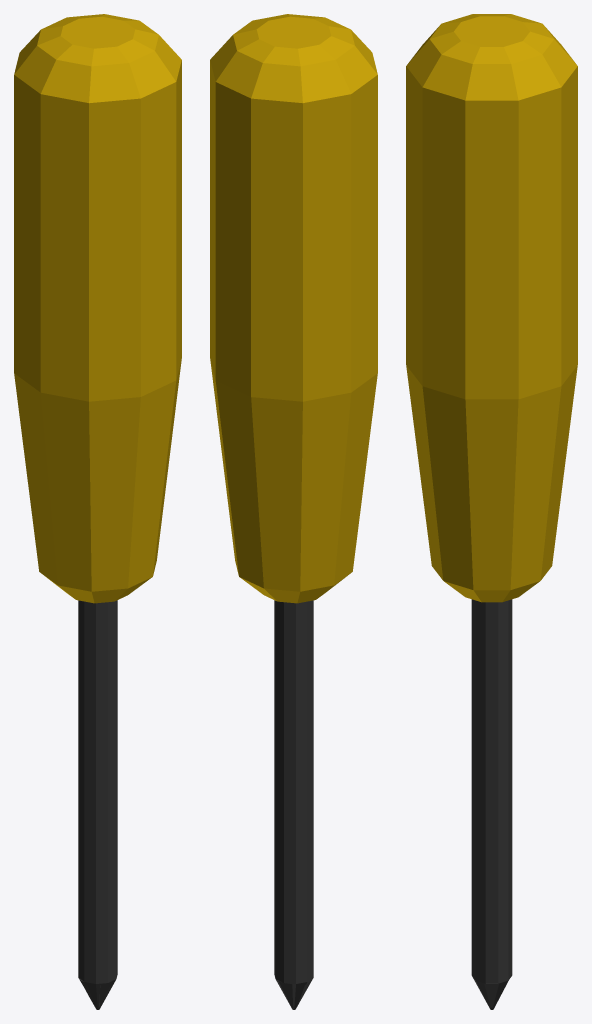
The model's file is schroevendraaierblend.obj.
The picture shows the model from 3 angles, left to right: view 1: azimuth 30°, elevation 25°; view 2: azimuth 150°, elevation 25°; view 3: azimuth 270°, elevation 25°; orthographic projection.
Visible parts, largest first — view 1: Cylinder_Cylinder.009, Cylinder.001_Cylinder.010; view 2: Cylinder_Cylinder.009, Cylinder.001_Cylinder.010; view 3: Cylinder_Cylinder.009, Cylinder.001_Cylinder.010.
Part boxes in pixels (box(x1,y1,x2,y2)): Cylinder_Cylinder.009: box(14, 14, 181, 603); Cylinder.001_Cylinder.010: box(78, 600, 117, 1009); Cylinder_Cylinder.009: box(210, 14, 377, 603); Cylinder.001_Cylinder.010: box(274, 600, 313, 1009); Cylinder_Cylinder.009: box(406, 14, 577, 602); Cylinder.001_Cylinder.010: box(471, 599, 512, 1009).
Size of the model in its own units: 0.5842 by 3.86 by 0.6143.
